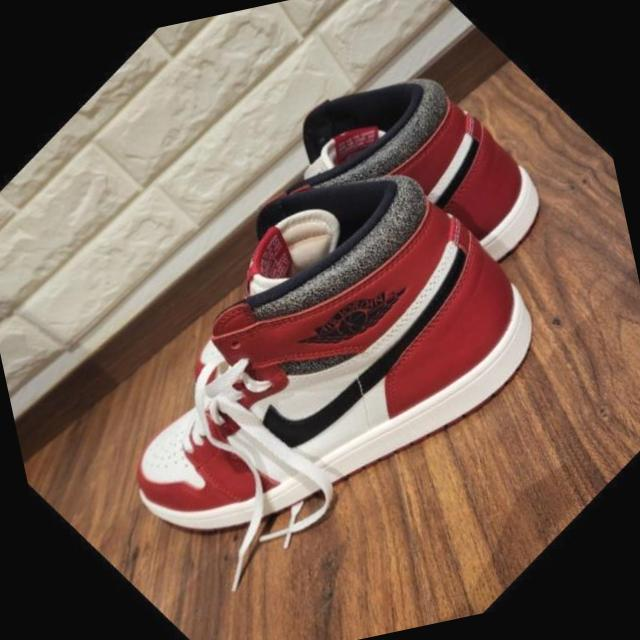nike_original_jordan: (0, 71, 623, 640)
